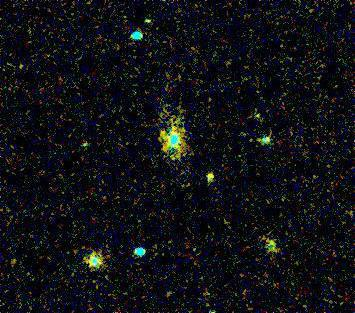star: (132, 6, 162, 36)
